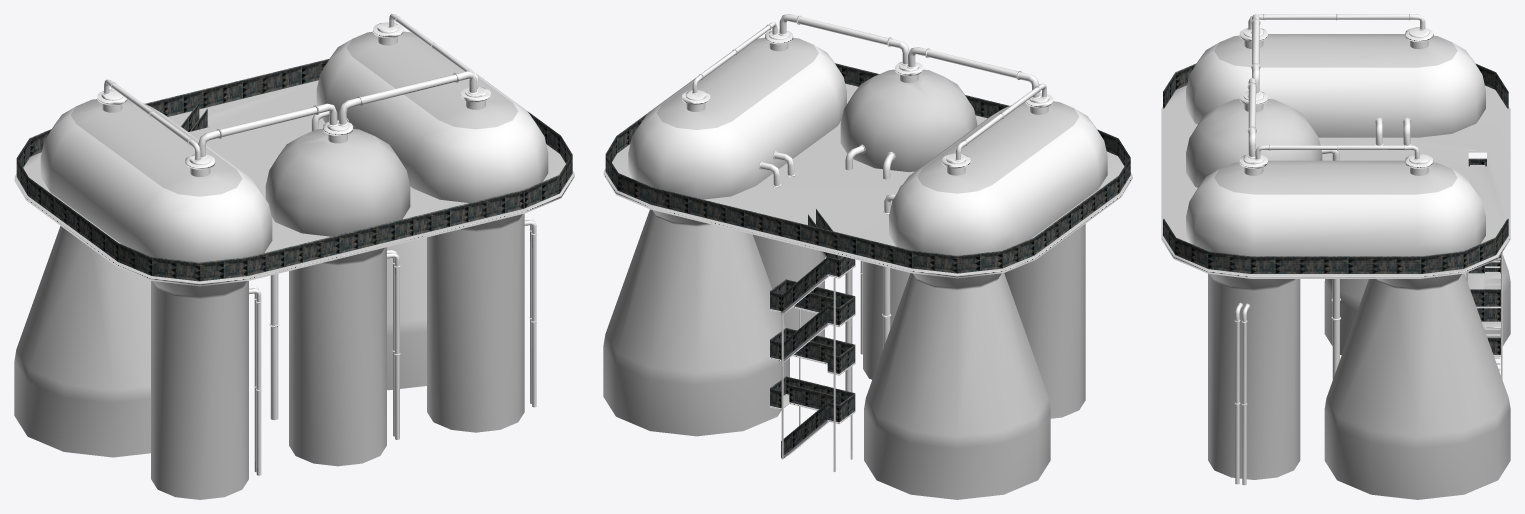
File: tank_anbau_03.fbx
3 renders of one model, left to right at view 1: azimuth 30°, elevation 25°; view 2: azimuth 150°, elevation 25°; view 3: azimuth 270°, elevation 25°, orthographic. The views are drawn at different scales.
Visible parts, largest first — view 1: tank_anbau03; view 2: tank_anbau03; view 3: tank_anbau03.
Part boxes in pixels (x1=…): tank_anbau03: x1=14, y1=14, x2=574, y2=499; tank_anbau03: x1=603, y1=14, x2=1132, y2=499; tank_anbau03: x1=1161, y1=14, x2=1510, y2=499.
Bounding box in the file's own units: 2277 × 1677 × 1637.
